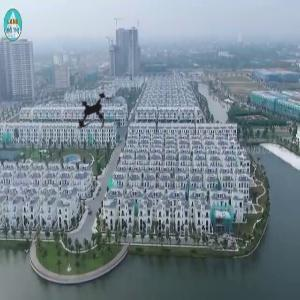drone: (53, 70, 136, 153)
